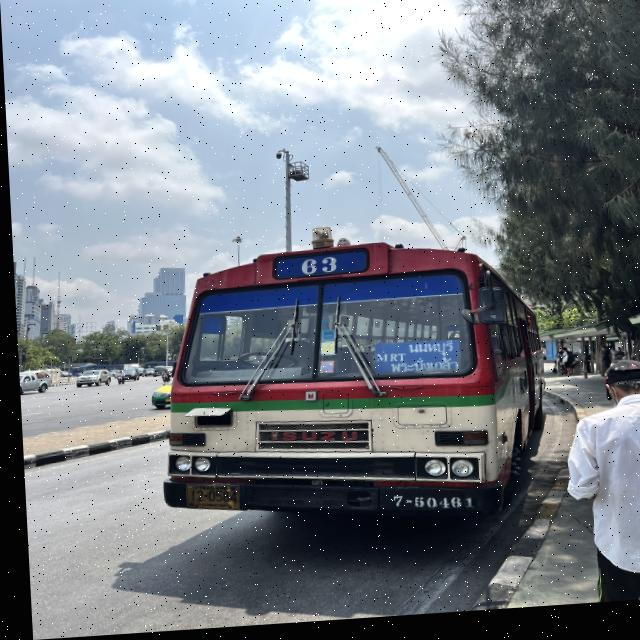BMTA-bus: (147, 234, 540, 529)
Bus Line Number: (270, 254, 366, 286)
Bus Side Number: (382, 491, 472, 524)
Destination Sign: (370, 343, 456, 381)
